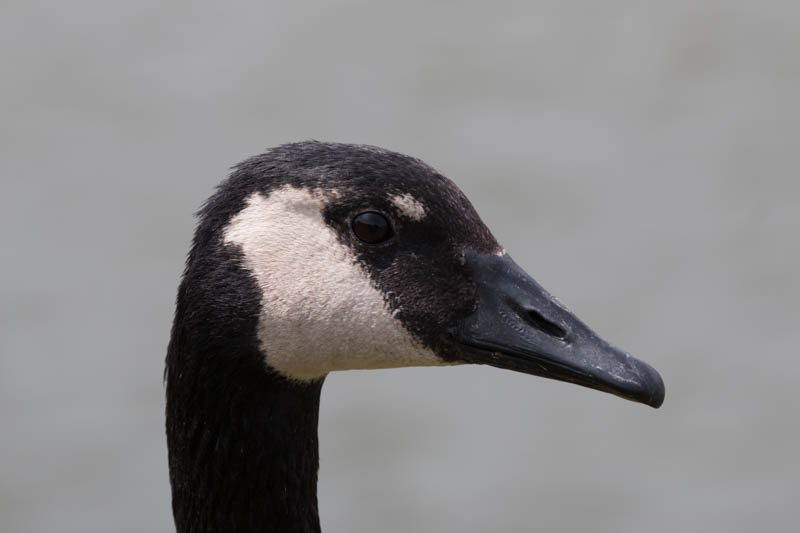goose-head: (167, 139, 666, 410)
